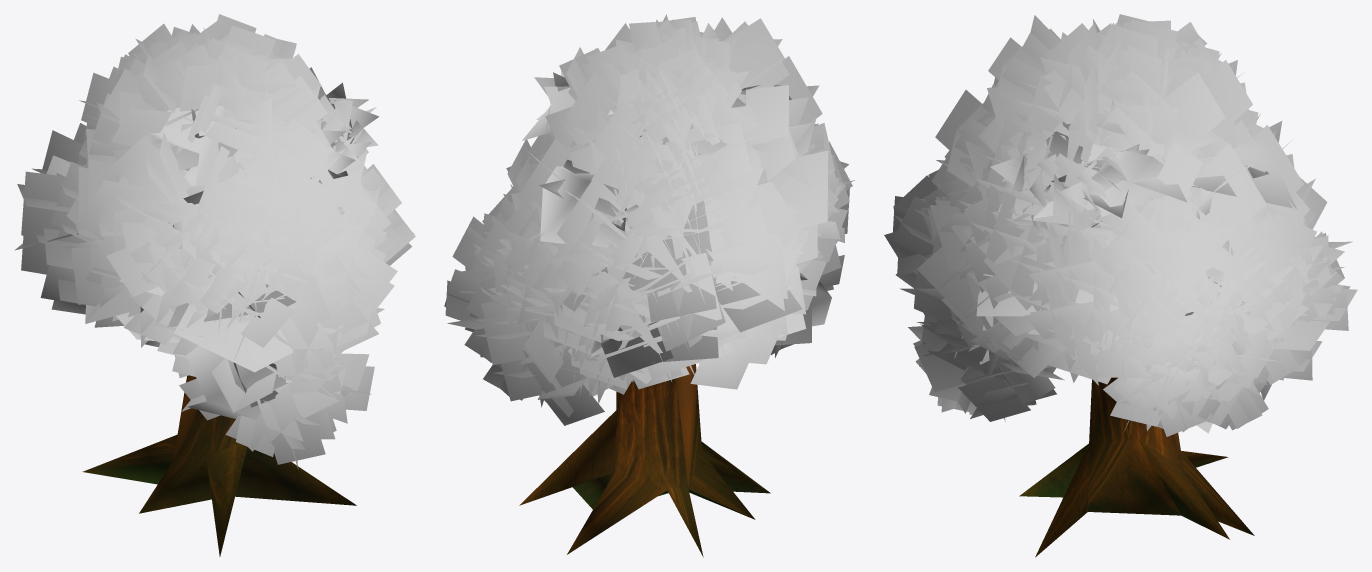
File: Large_Tree_03_2.0.fbx
The picture shows the model from 3 angles, left to right: view 1: azimuth 30°, elevation 25°; view 2: azimuth 150°, elevation 25°; view 3: azimuth 270°, elevation 25°; orthographic projection. The views are drawn at different scales.
Parts seen in each view (by area): view 1: Tree03_LOD0; view 2: Tree03_LOD0; view 3: Tree03_LOD0.
Boxes of the visible parts, x1,y1,x2,y2 form: Tree03_LOD0: (14, 14, 415, 556); Tree03_LOD0: (444, 14, 854, 557); Tree03_LOD0: (884, 14, 1357, 557).
Size of what is drawn, in the model's own units: 825 by 1115 by 965.
